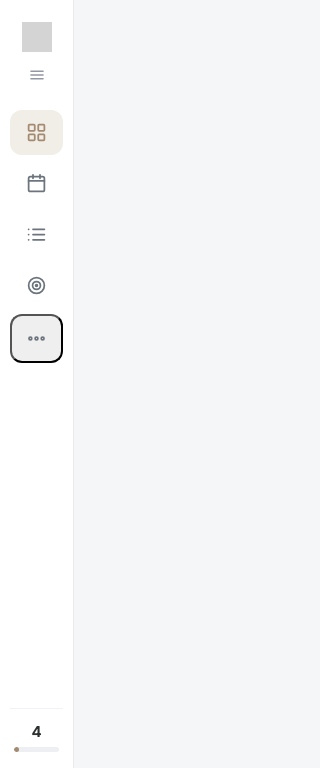
Test: on a phone › closes the sheet on the way to the page the reader picked
Click the button named "More": (36, 338) 10,314 -> 63,363
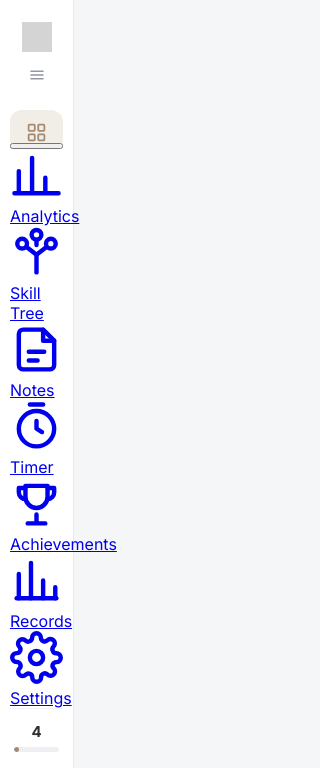
Click the menu item "Records": (36, 601) 10,591 -> 72,631
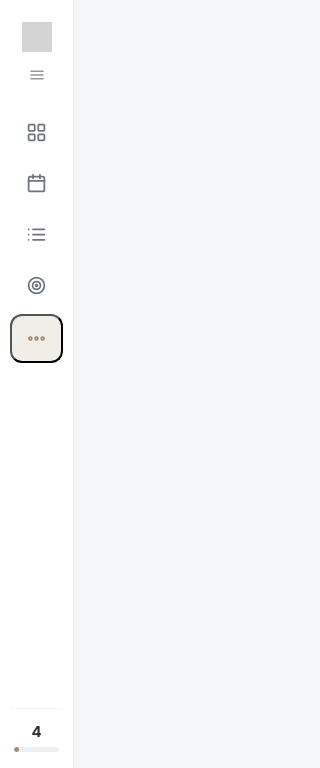
Expected: the menu is gone
